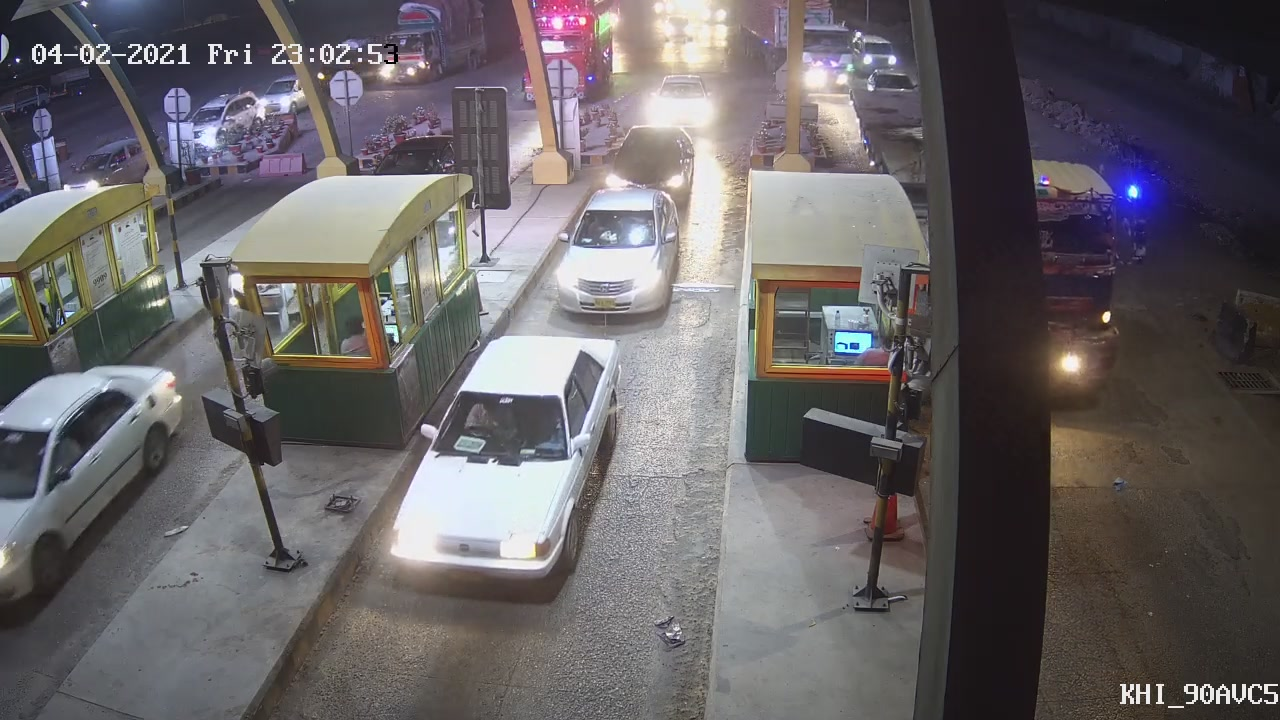F1: (384, 331, 630, 586), (546, 178, 687, 319)
